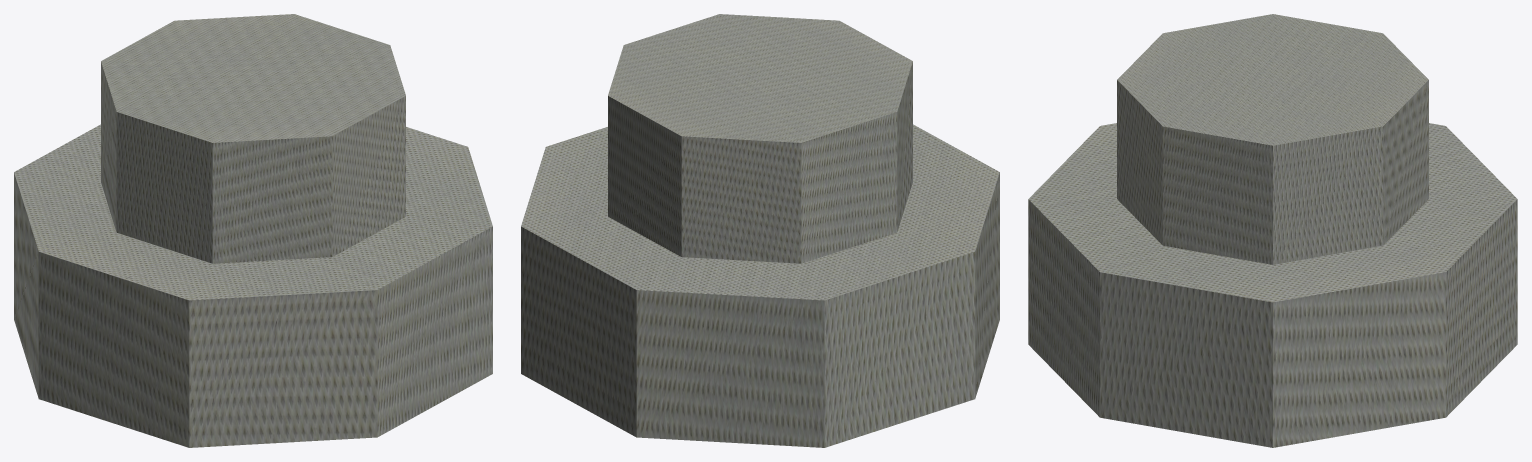
Rendered from jeringa.fbx.
3 views of the same model, side by side, from view 1: azimuth 30°, elevation 25°; view 2: azimuth 150°, elevation 25°; view 3: azimuth 270°, elevation 25° (orthographic).
Parts seen in each view (by area): view 1: Jeringa; view 2: Jeringa; view 3: Jeringa.
Boxes of the visible parts, x1,y1,x2,y2 form: Jeringa: (14,14,492,447); Jeringa: (521,14,999,447); Jeringa: (1028,14,1517,447).
Bounding box in the file's own units: 106 × 63.57 × 106.
